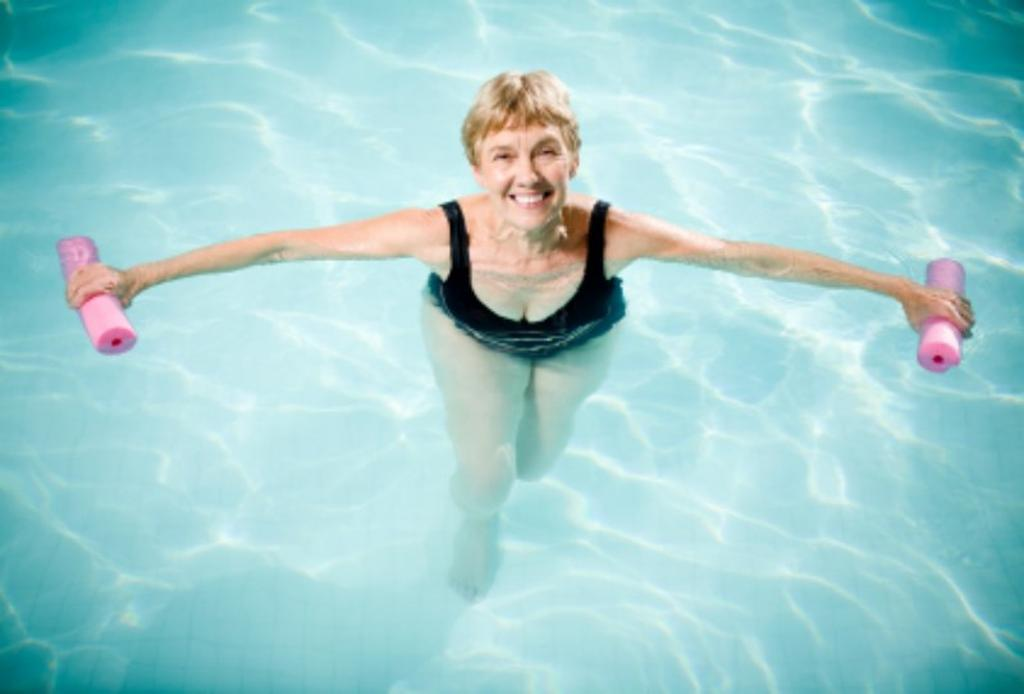face: (483, 119, 571, 227)
